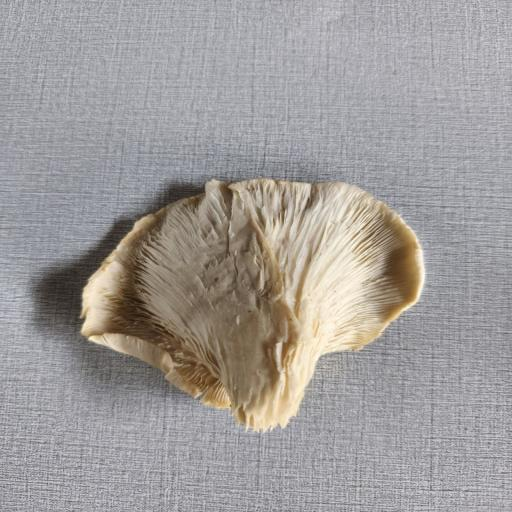White Oyster Mushroom: (72, 169, 436, 436)
